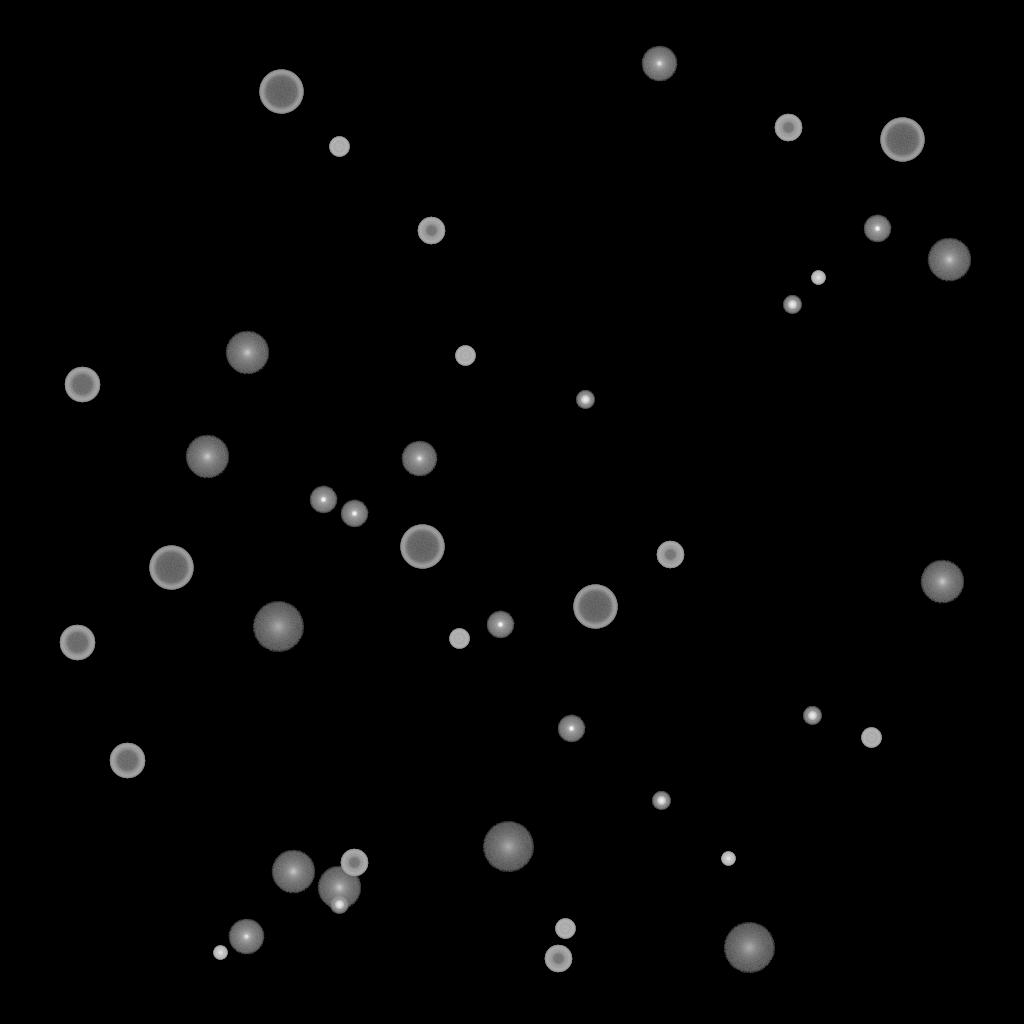depth:-10: (557, 715, 585, 743), (863, 215, 891, 243), (486, 611, 514, 639), (340, 500, 368, 528), (309, 486, 337, 514)
depth:-20: (652, 792, 670, 810), (330, 896, 348, 914), (576, 391, 594, 409), (783, 296, 801, 314), (803, 707, 821, 725)
depth:-30: (213, 946, 227, 960), (721, 852, 735, 866), (811, 271, 825, 285)
depth:-40: (861, 728, 881, 748), (449, 629, 469, 649), (329, 137, 349, 157), (455, 346, 475, 366), (555, 919, 575, 939)
depth:-50: (656, 541, 684, 569), (417, 217, 445, 245), (544, 945, 572, 973), (774, 114, 802, 142), (340, 849, 368, 877)
depth:-60: (64, 367, 100, 403), (59, 625, 95, 661), (109, 743, 145, 779)
depth:-70: (149, 546, 193, 590), (880, 118, 924, 162), (259, 70, 303, 114), (573, 585, 617, 629), (400, 525, 444, 569)
depth:0: (401, 441, 437, 477), (228, 919, 264, 955), (641, 46, 677, 82)
depth:10: (317, 866, 361, 910), (271, 850, 315, 894), (920, 560, 964, 604), (225, 331, 269, 375), (927, 238, 971, 282), (185, 435, 229, 479)
depth:20: (252, 602, 304, 652), (723, 923, 775, 973), (482, 822, 534, 872)
